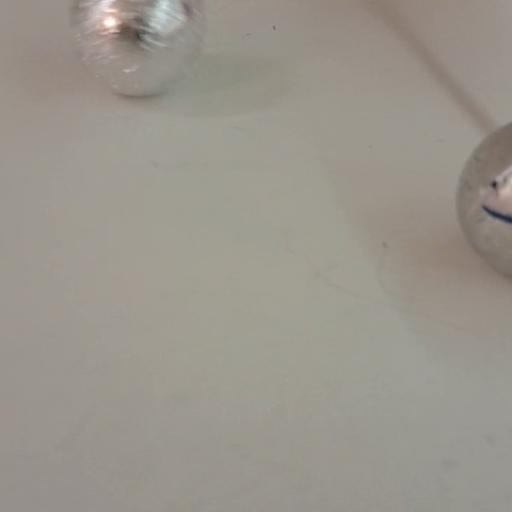alive: (69, 0, 205, 95), (455, 116, 512, 277)
